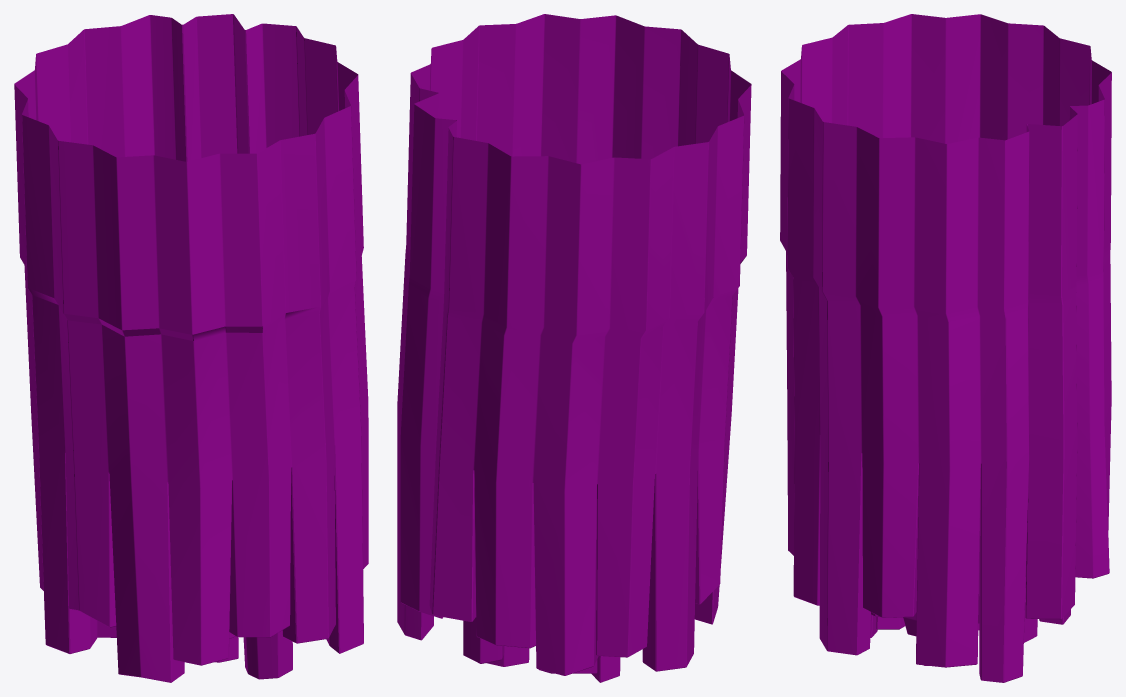
Rendered from Staffa 1.fbx.
3 renders of one model, left to right at view 1: azimuth 30°, elevation 25°; view 2: azimuth 150°, elevation 25°; view 3: azimuth 270°, elevation 25°, orthographic. The views are drawn at different scales.
Parts seen in each view (by area): view 1: Staffa; view 2: Staffa; view 3: Staffa.
Boxes of the visible parts, x1,y1,x2,y2 form: Staffa: (14, 14, 368, 682); Staffa: (397, 14, 751, 682); Staffa: (780, 14, 1111, 682).
Size of the model in its own units: 15.9 by 27.42 by 15.25.
